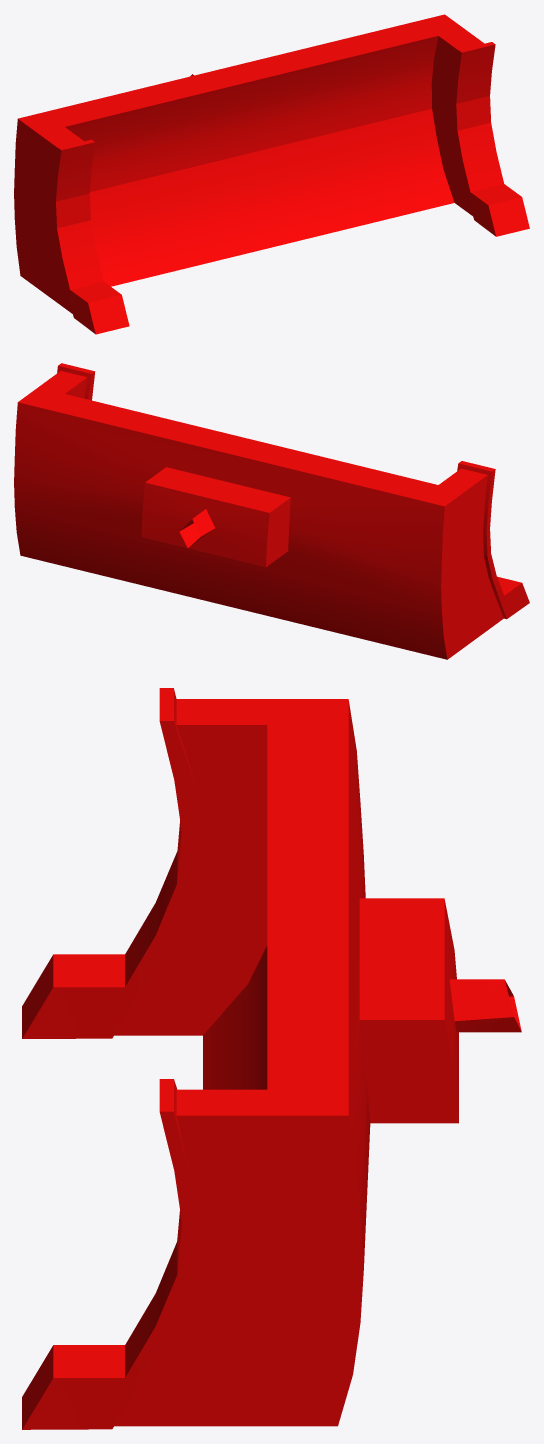
Rendered from spychacz.fbx.
The picture shows the model from 3 angles, top to bottom: view 1: azimuth 30°, elevation 25°; view 2: azimuth 150°, elevation 25°; view 3: azimuth 270°, elevation 25°; orthographic projection. The views are drawn at different scales.
Visible parts, largest first — view 1: Spychacz_LP; view 2: Spychacz_LP; view 3: Spychacz_LP.
Boxes of the visible parts, left/top/right/bottom form: Spychacz_LP: left=14, top=14, right=529, bottom=334; Spychacz_LP: left=14, top=363, right=529, bottom=659; Spychacz_LP: left=22, top=688, right=521, bottom=1429.
Size of the model in its own units: 2.61 by 0.914 by 1.3.
